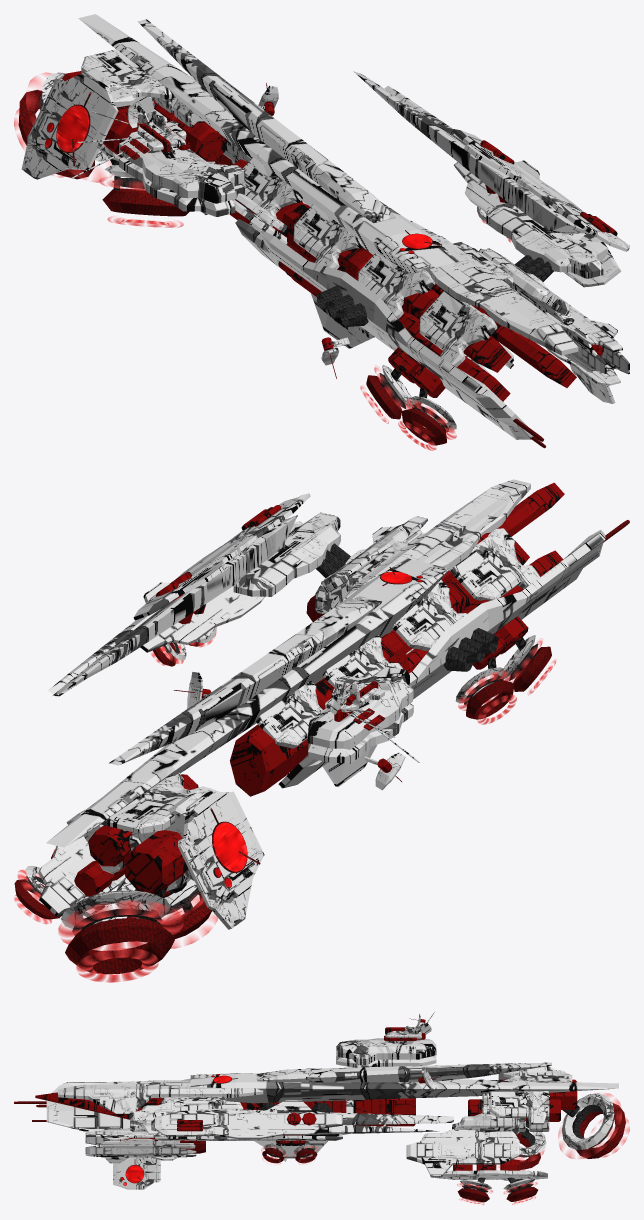
File: diablo.gltf
3 renders of one model, top to bottom at view 1: azimuth 30°, elevation 25°; view 2: azimuth 150°, elevation 25°; view 3: azimuth 270°, elevation 25°, orthographic. The views are drawn at different scales.
Parts seen in each view (by area): view 1: base_glow, engine01; view 2: base_glow, engine01; view 3: base_glow, engine01.
Boxes of the visible parts, <box> form: base_glow: <box>18,14,629,448</box>; engine01: <box>14,72,510,450</box>; base_glow: <box>14,479,629,974</box>; engine01: <box>14,632,556,982</box>; base_glow: <box>14,1011,625,1202</box>; engine01: <box>261,1093,629,1204</box>.
Size of the model in its own units: 3.93 by 2.25 by 9.65.
Materials: 7 (6 with a texture image).
